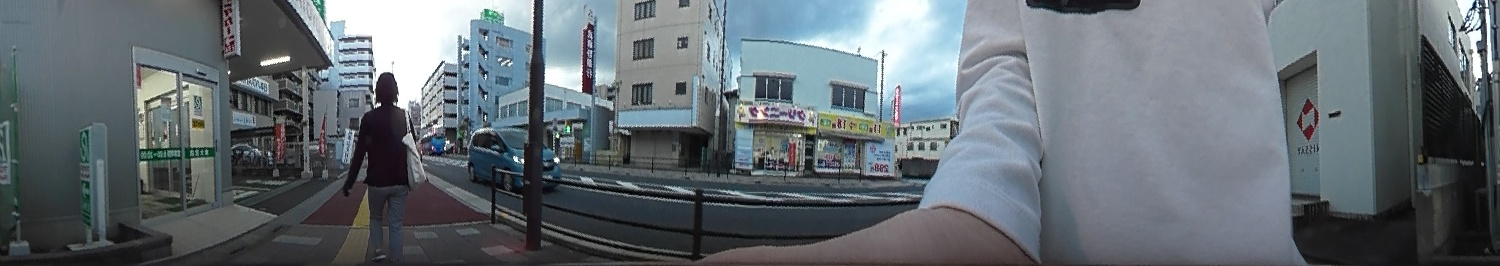person: (342, 72, 425, 253)
